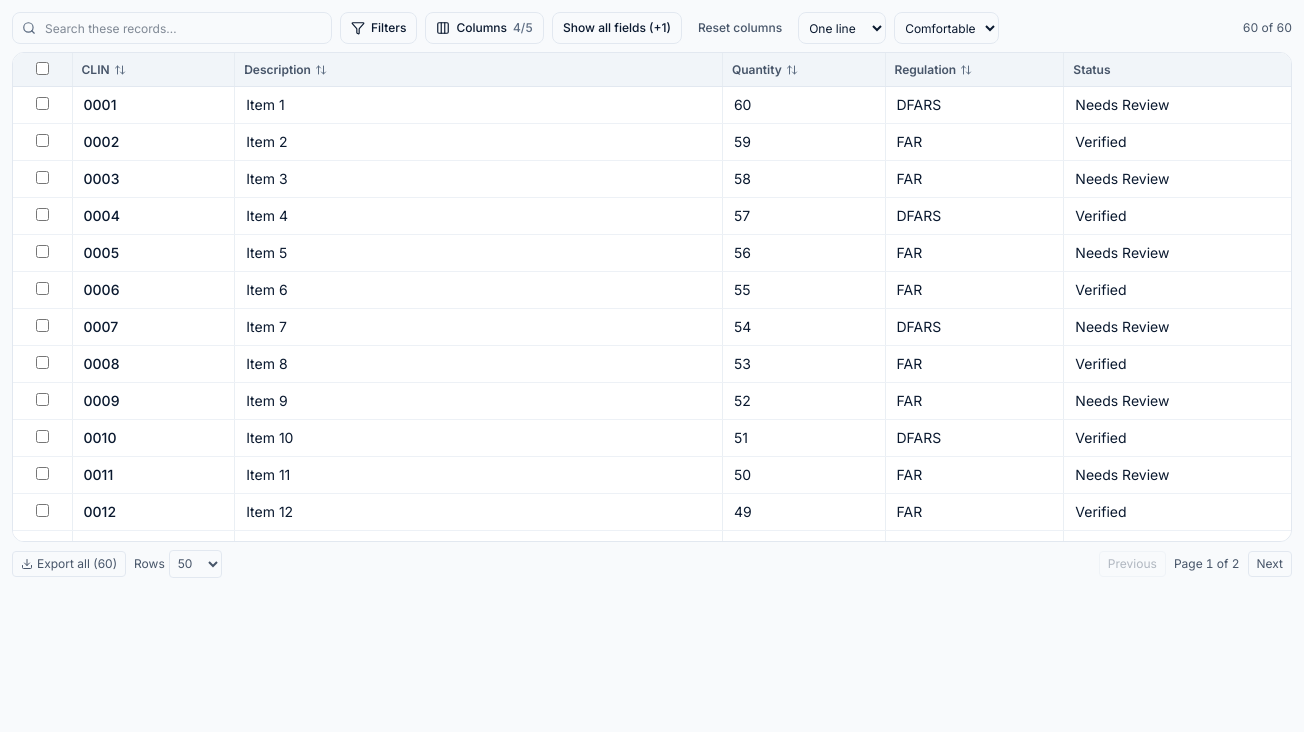
SmartDataGrid › sorts numerically, paginates, filters with chips and clears them
The width and height of the screenshot is (1304, 732).
Expected: the text "Page 1 of 2" is shown, x1=1174 y1=556 x2=1240 y2=572
Click the button with aria-label "Sort by Quantity". click: click(803, 70)
box: x1=732 y1=61 x2=874 y2=78
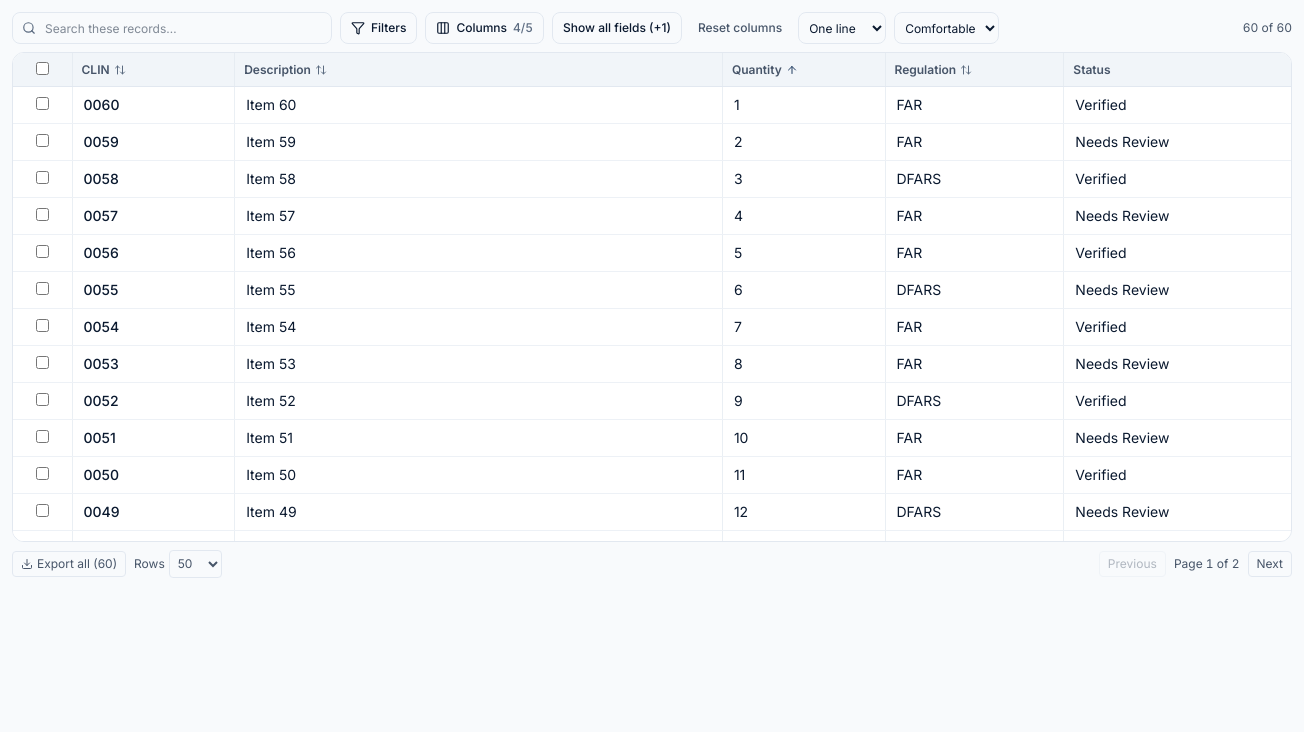
Result: the row with test id "smart-row" shows "Item 60" at x1=246 y1=96 x2=296 y2=113
Click the button "Filters". click: click(379, 28)
box: x1=340 y1=12 x2=417 y2=44
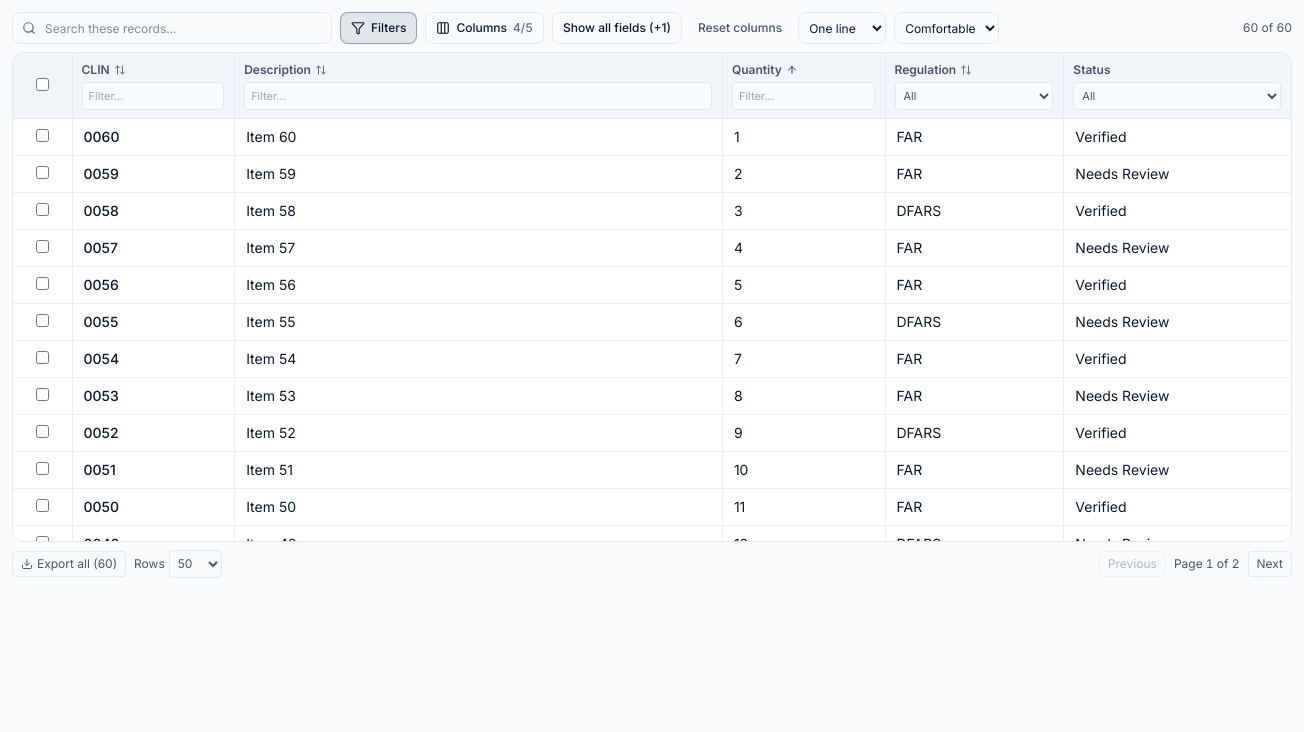
Select "DFARS" in the dropdown named "Filter Regulation". click: (974, 96)
box: x1=894 y1=82 x2=1053 y2=110
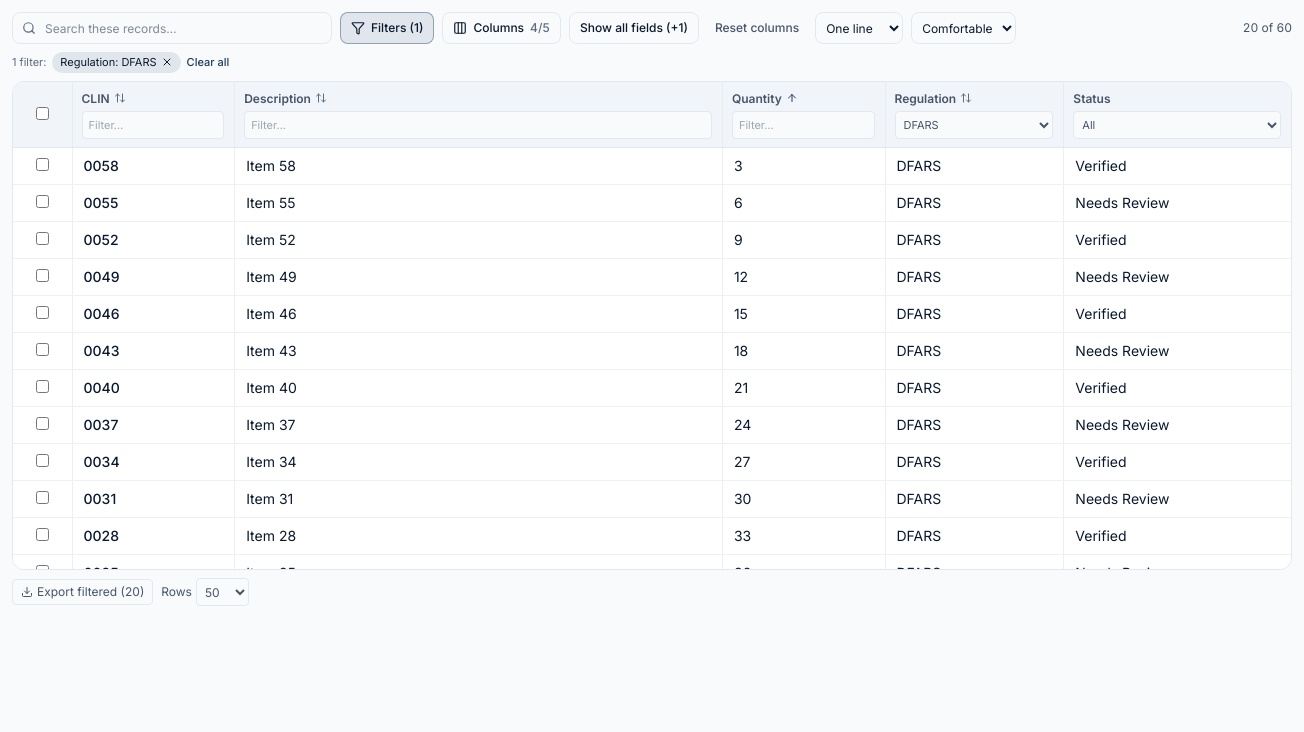
Type "Item 1" into the field named "Search records". click: (172, 28)
box: x1=12 y1=12 x2=332 y2=44
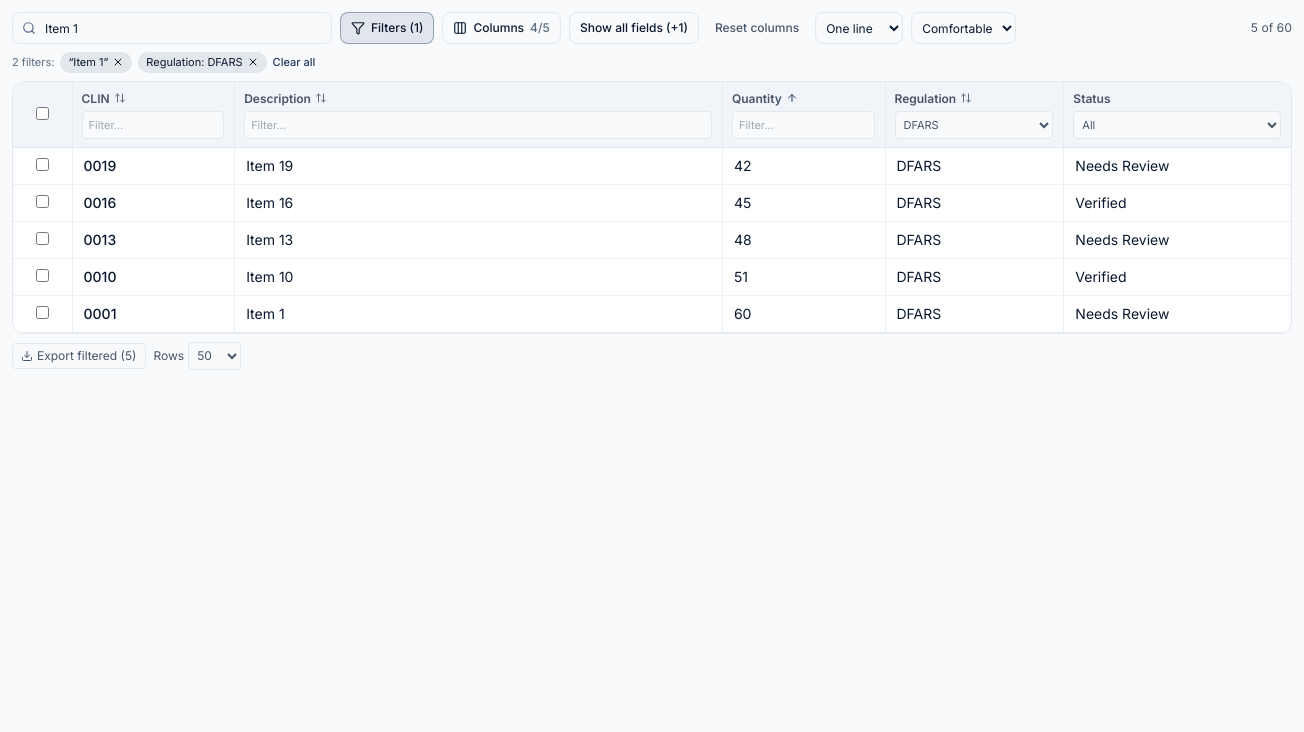
Result: the element with test id "filter-chips" shows "Regulation: DFARS" at x1=12 y1=52 x2=315 y2=72
Result: the element with test id "filter-chips" shows "2 filters" at x1=12 y1=52 x2=315 y2=72
Click the button "Clear all". click: click(294, 62)
box: x1=273 y1=54 x2=315 y2=70
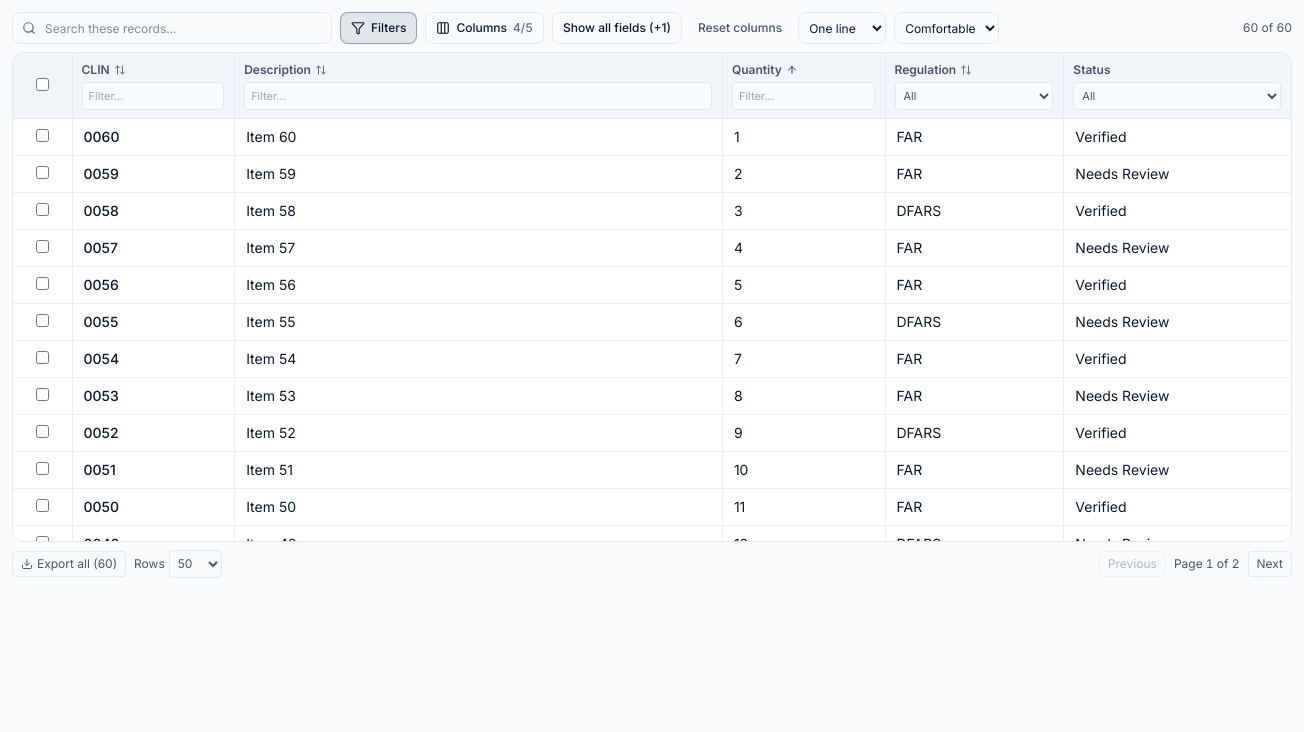
Result: the element with test id "filter-chips" is gone
